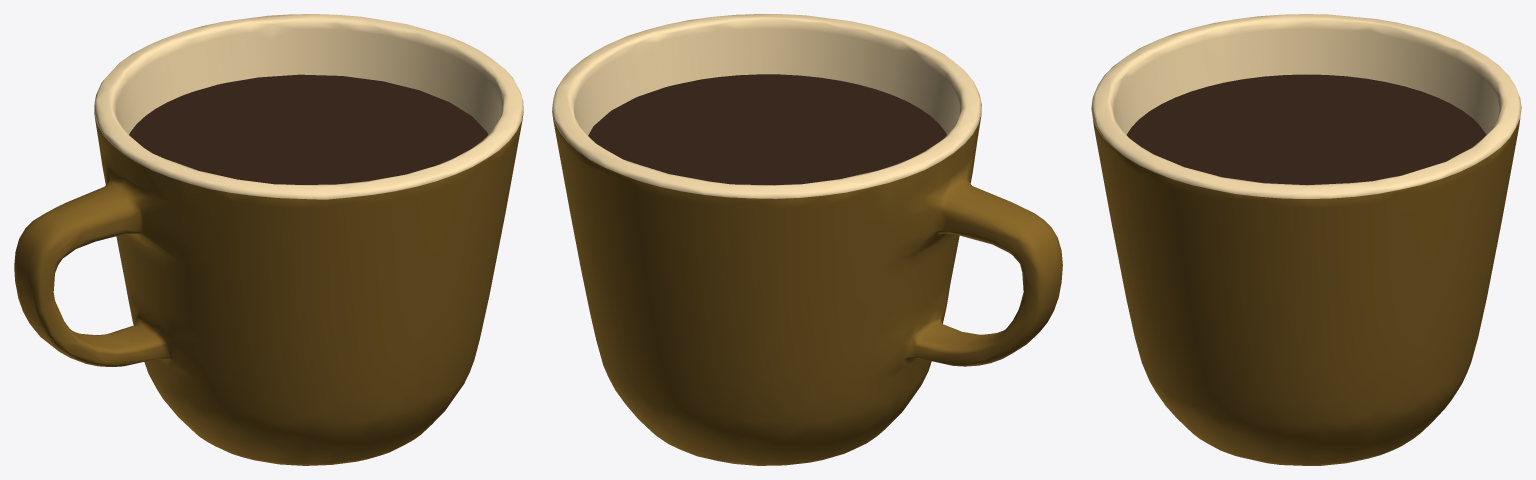
Rendered from kafeibei.FBX.
3 views of the same model, side by side, from view 1: azimuth 30°, elevation 25°; view 2: azimuth 150°, elevation 25°; view 3: azimuth 270°, elevation 25° (orthographic).
Parts seen in each view (by area): view 1: cafeibei, kafeibeiN; view 2: cafeibei, kafeibeiN; view 3: cafeibei, kafeibeiN.
Boxes of the visible parts, x1,y1,x2,y2 form: cafeibei: (14,14,523,465); kafeibeiN: (129,74,488,184); cafeibei: (552,14,1062,465); kafeibeiN: (588,74,946,185); cafeibei: (1091,14,1521,465); kafeibeiN: (1126,74,1486,185).
Bounding box in the file's own units: 8.4 × 5.45 × 6.61.
